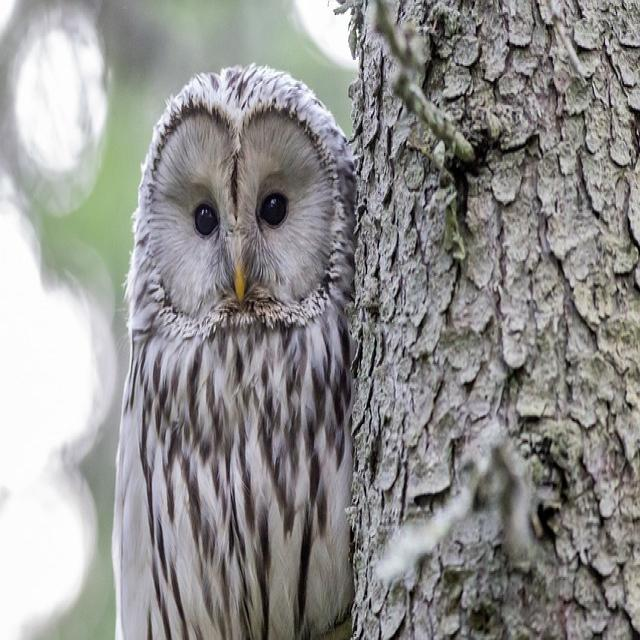Carnivorous: (110, 64, 358, 640)
